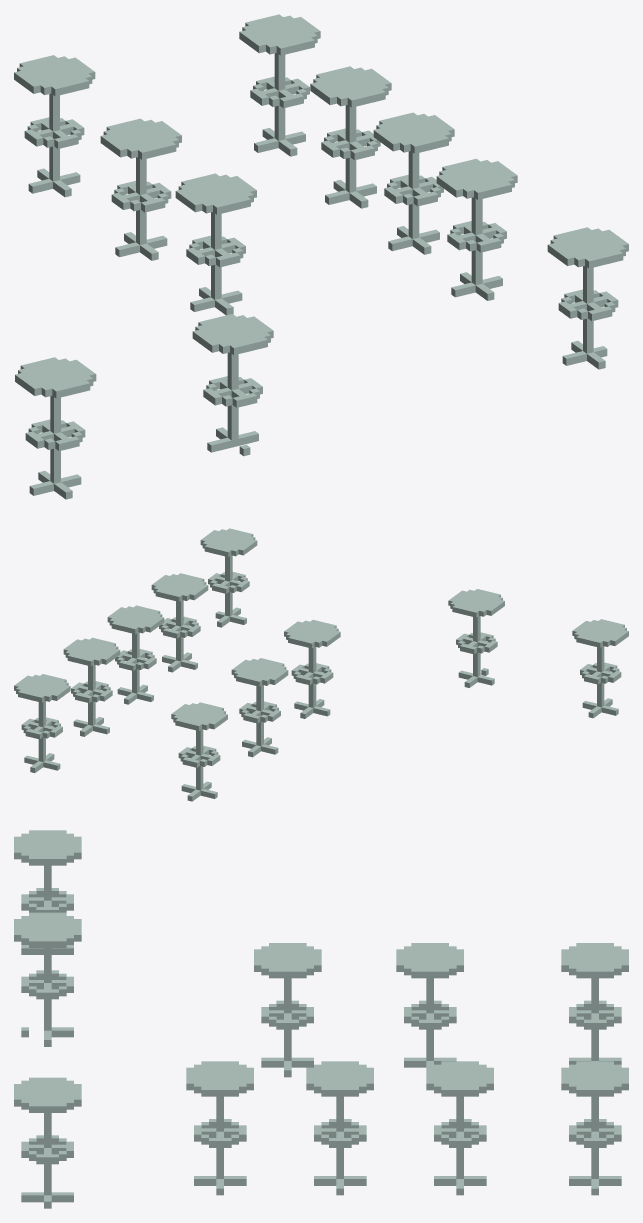
File: white metal.obj
3 views of the same model, one above another, from view 1: azimuth 30°, elevation 25°; view 2: azimuth 150°, elevation 25°; view 3: azimuth 270°, elevation 25° (orthographic). The views are drawn at different scales.
Parts seen in each view (by area): view 1: white metal; view 2: white metal; view 3: white metal.
Part boxes in pixels (x1=…): white metal: x1=14, y1=14, x2=628, y2=499; white metal: x1=14, y1=528, x2=628, y2=801; white metal: x1=14, y1=830, x2=628, y2=1208.
Bounding box in the file's own units: 87 × 19 × 82.
1 material, 1 textured.
